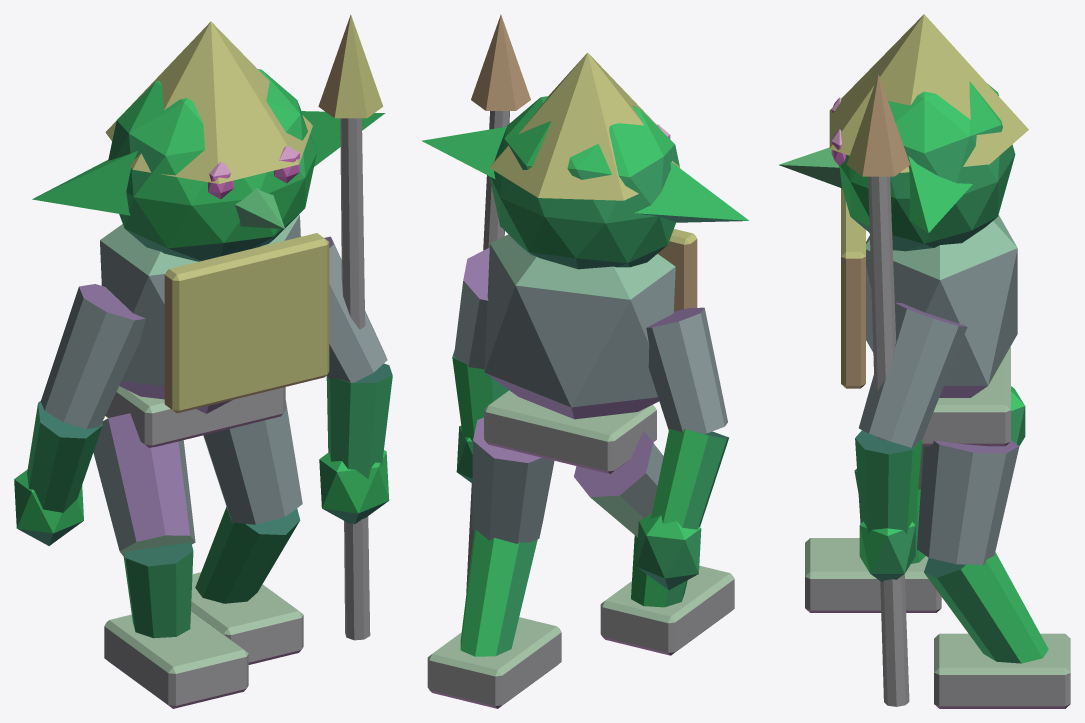
The model's file is creature_goblin_raider_down_a_v01.glb.
3 renders of one model, left to right at view 1: azimuth 30°, elevation 25°; view 2: azimuth 150°, elevation 25°; view 3: azimuth 270°, elevation 25°, orthographic. The views are drawn at different scales.
Parts seen in each view (by area): view 1: GEO_creature_goblin_raider_down_a_v01; view 2: GEO_creature_goblin_raider_down_a_v01; view 3: GEO_creature_goblin_raider_down_a_v01.
Boxes of the visible parts, x1,y1,x2,y2 form: GEO_creature_goblin_raider_down_a_v01: (14, 14, 392, 708); GEO_creature_goblin_raider_down_a_v01: (421, 14, 749, 708); GEO_creature_goblin_raider_down_a_v01: (778, 14, 1070, 708).
Size of the model in its own units: 0.88 by 1.57 by 0.6414.
